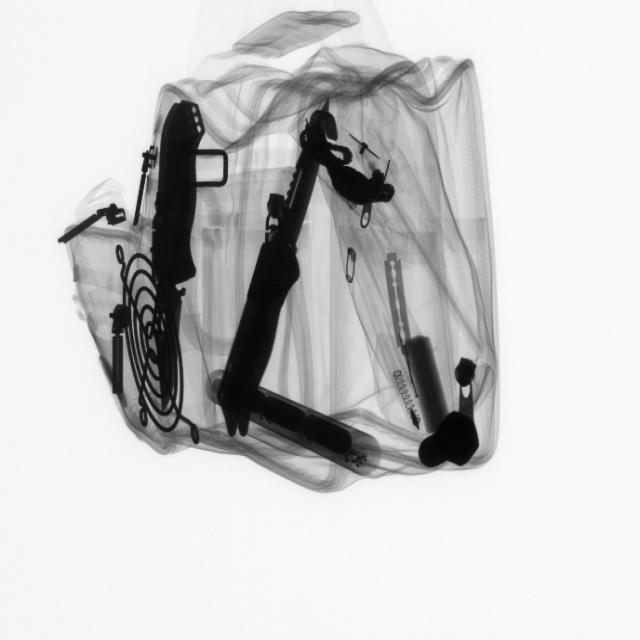BLADE: (381, 245, 419, 356)
GUN: (223, 127, 316, 451)
KNIFE: (141, 118, 210, 416)
